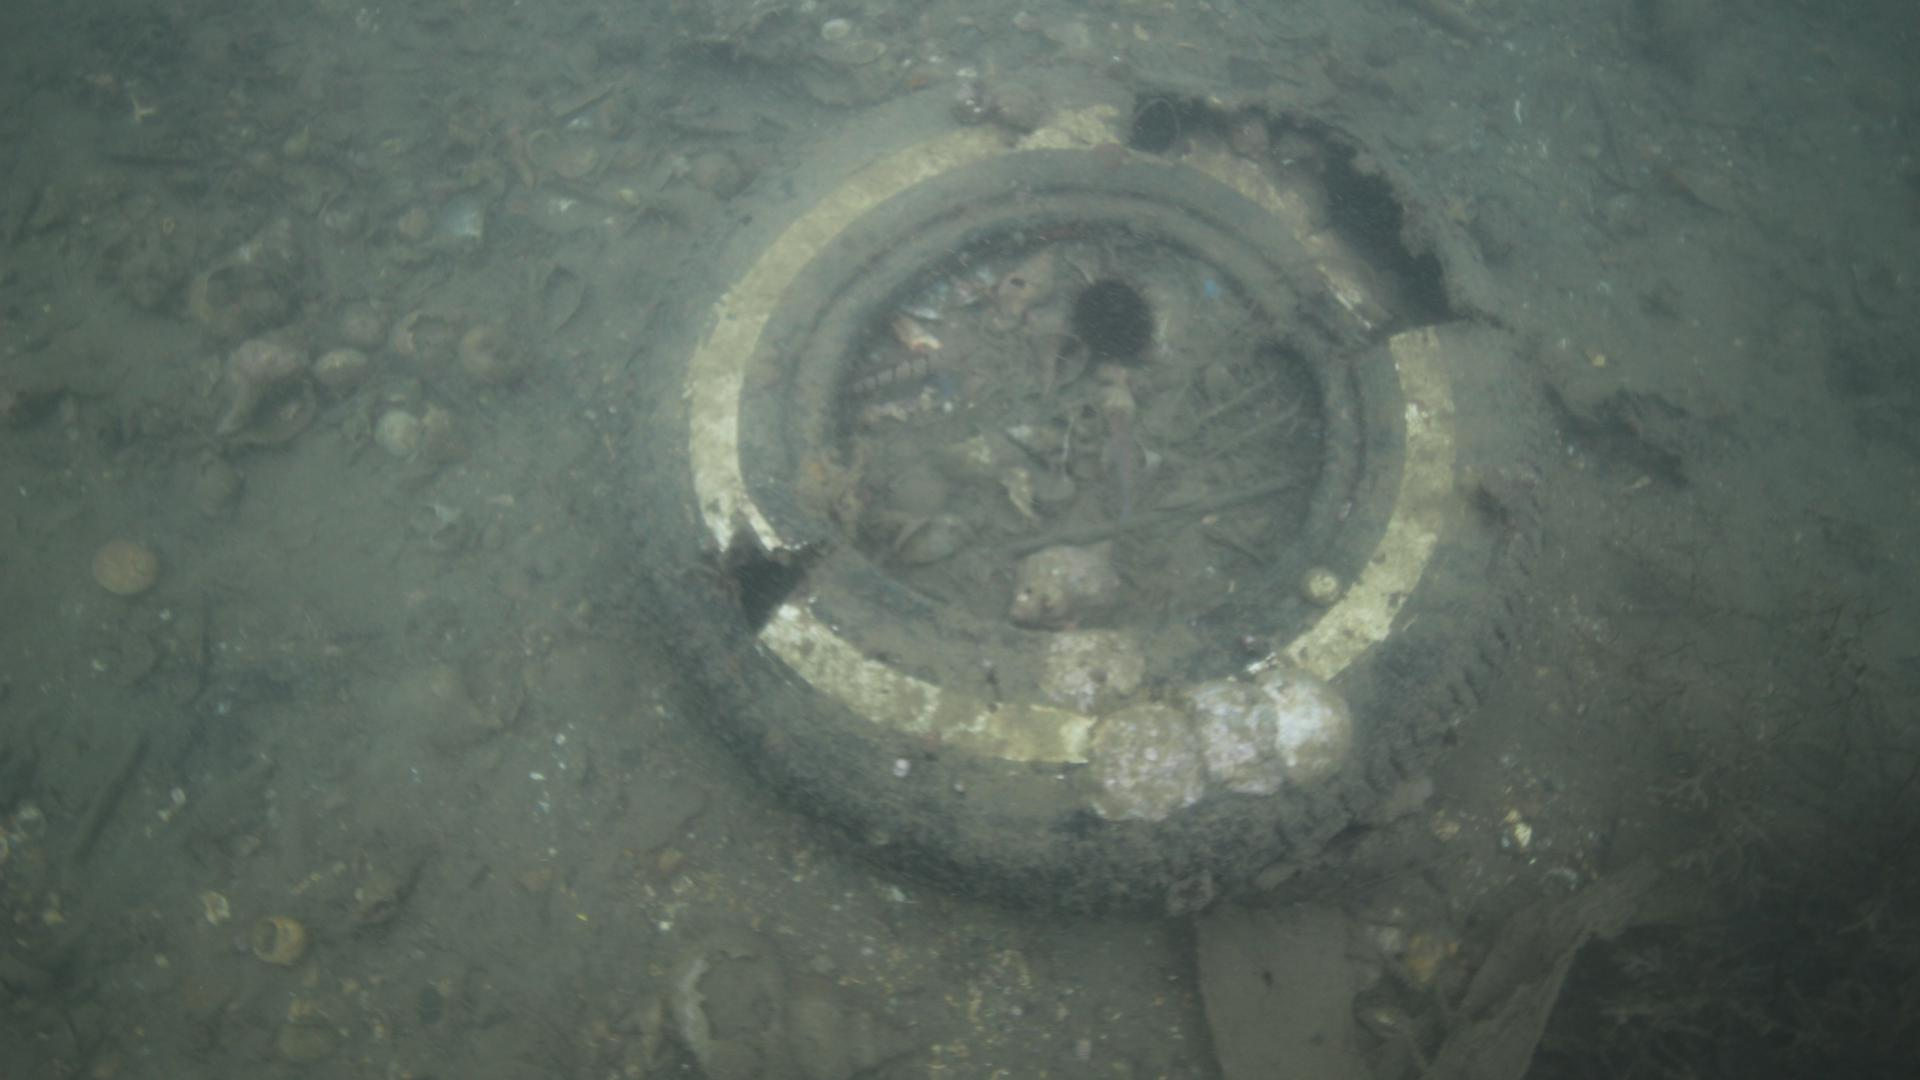tire: (622, 61, 1545, 920)
